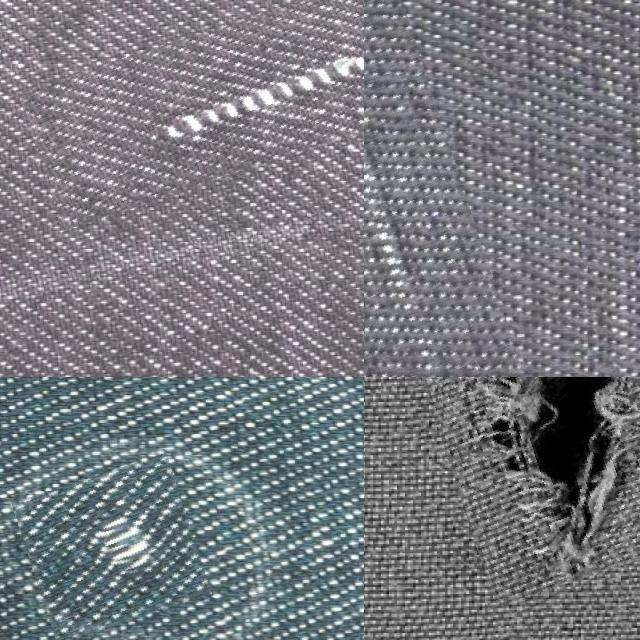Thread_other: (23, 0, 364, 200), (364, 0, 518, 377), (20, 464, 202, 632)
seam: (394, 377, 640, 595)
